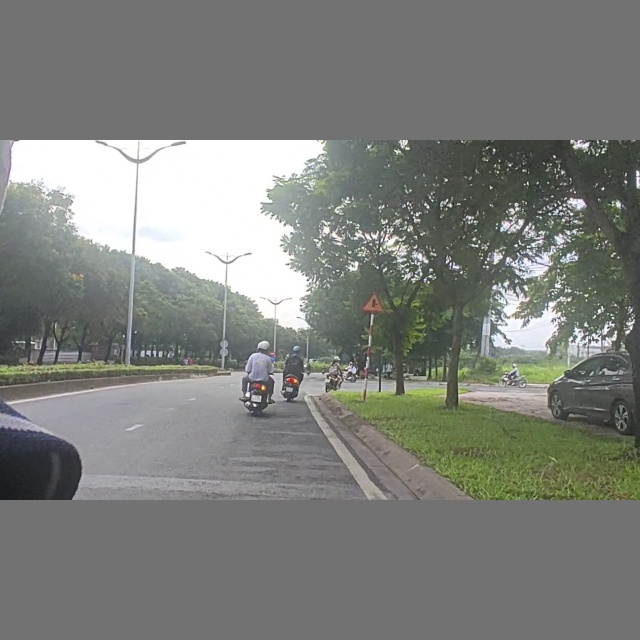W.207: (360, 291, 385, 315)
